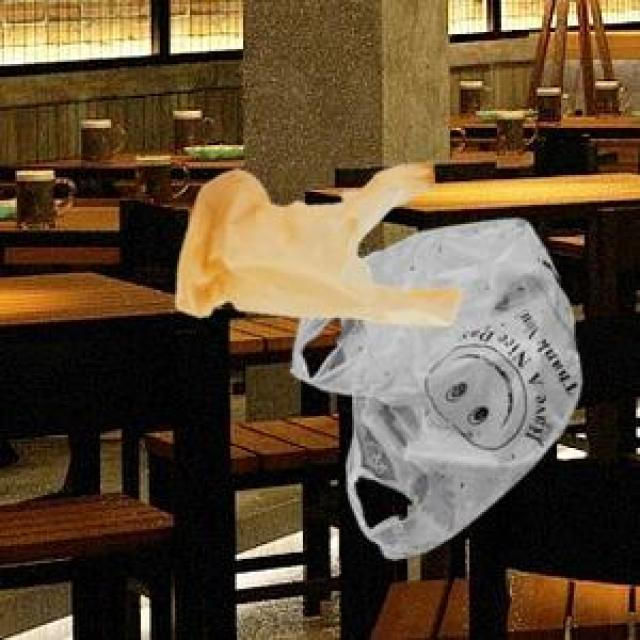plastic: (162, 137, 621, 579)
